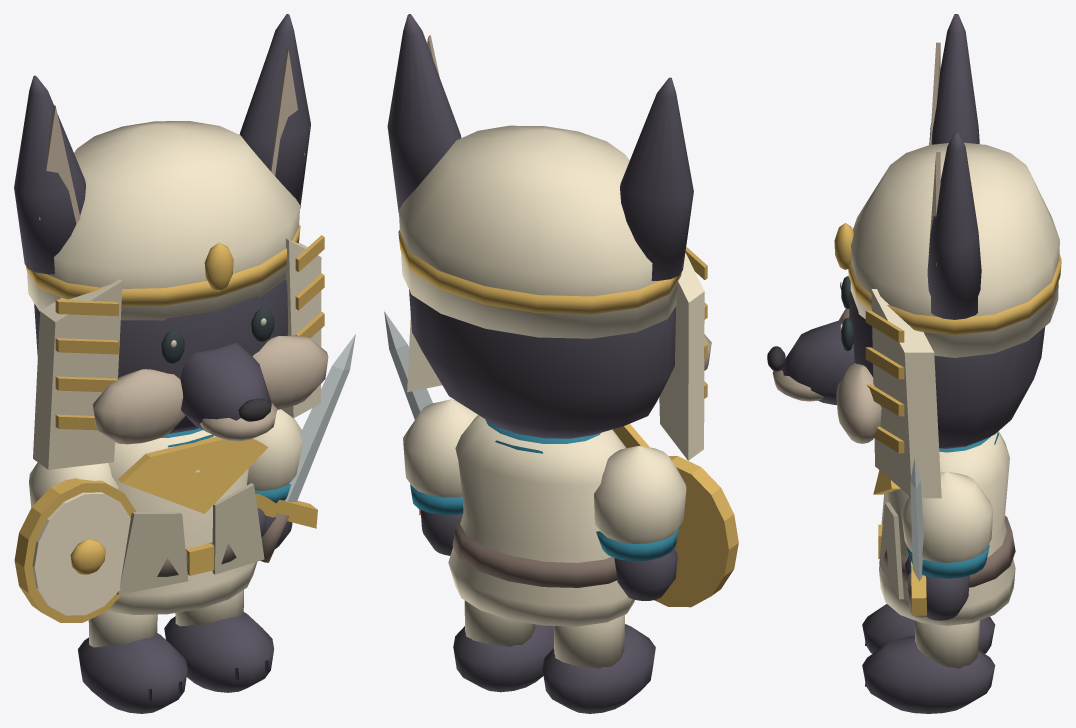
Rendered from warrior.glb.
3 renders of one model, left to right at view 1: azimuth 30°, elevation 25°; view 2: azimuth 150°, elevation 25°; view 3: azimuth 270°, elevation 25°, orthographic. The views are drawn at different scales.
Visible parts, largest first — view 1: Striped nemes crown, Nemes shoulder wing, Regional shield face, Tall animal ear, Short folded tunic, Animal cheek head, Broad gold collar, Tall animal ear.001, Soft animal paw, Soft animal paw.001, Light cheek fluff, Long pointed muzzle (+26 smaller); view 2: Striped nemes crown, Short folded tunic, Animal cheek head, Tall animal ear, Tall animal ear.001, Puff sleeve, Shield gold rim, Nemes shoulder wing, Soft animal paw, Nemes front band, Puff sleeve.001, Soft animal paw.001 (+10 smaller); view 3: Striped nemes crown, Animal cheek head, Nemes shoulder wing.001, Tall animal ear.001, Short folded tunic, Soft animal paw.001, Puff sleeve.001, Tall animal ear, Long pointed muzzle, Nemes front band, Light cheek fluff.001, Stubby trouser.001 (+13 smaller).
Boxes of the visible parts, x1=… form: Striped nemes crown: x1=27, y1=121, x2=300, y2=320; Nemes shoulder wing: x1=33, y1=279, x2=122, y2=469; Regional shield face: x1=32, y1=492, x2=130, y2=615; Tall animal ear: x1=14, y1=75, x2=85, y2=274; Short folded tunic: x1=106, y1=430, x2=256, y2=614; Animal cheek head: x1=34, y1=279, x2=287, y2=433; Broad gold collar: x1=117, y1=436, x2=267, y2=513; Tall animal ear.001: x1=239, y1=14, x2=310, y2=208; Soft animal paw: x1=78, y1=633, x2=187, y2=713; Soft animal paw.001: x1=164, y1=612, x2=274, y2=692; Light cheek fluff: x1=92, y1=369, x2=185, y2=444; Long pointed muzzle: x1=180, y1=343, x2=271, y2=430; Striped nemes crown: x1=398, y1=125, x2=677, y2=338; Short folded tunic: x1=448, y1=415, x2=634, y2=626; Animal cheek head: x1=409, y1=289, x2=676, y2=438; Tall animal ear: x1=620, y1=77, x2=693, y2=280; Tall animal ear.001: x1=387, y1=14, x2=461, y2=212; Puff sleeve: x1=594, y1=446, x2=686, y2=543; Shield gold rim: x1=654, y1=456, x2=738, y2=607; Nemes shoulder wing: x1=659, y1=252, x2=704, y2=460; Soft animal paw: x1=542, y1=624, x2=655, y2=713; Nemes front band: x1=398, y1=230, x2=681, y2=314; Puff sleeve.001: x1=403, y1=399, x2=477, y2=497; Soft animal paw.001: x1=453, y1=624, x2=553, y2=692; Striped nemes crown: x1=850, y1=142, x2=1059, y2=357; Animal cheek head: x1=849, y1=291, x2=1044, y2=448; Nemes shoulder wing.001: x1=871, y1=289, x2=941, y2=498; Tall animal ear.001: x1=927, y1=132, x2=981, y2=319; Short folded tunic: x1=879, y1=431, x2=1015, y2=625; Soft animal paw.001: x1=862, y1=635, x2=995, y2=713; Puff sleeve.001: x1=901, y1=471, x2=993, y2=562; Tall animal ear: x1=929, y1=14, x2=979, y2=144; Long pointed muzzle: x1=780, y1=317, x2=854, y2=405; Nemes front band: x1=848, y1=254, x2=1061, y2=335; Light cheek fluff.001: x1=836, y1=363, x2=881, y2=443; Stubby trouser.001: x1=914, y1=620, x2=979, y2=668.
Size of the model in its own units: 1.02 by 1.84 by 0.797.
